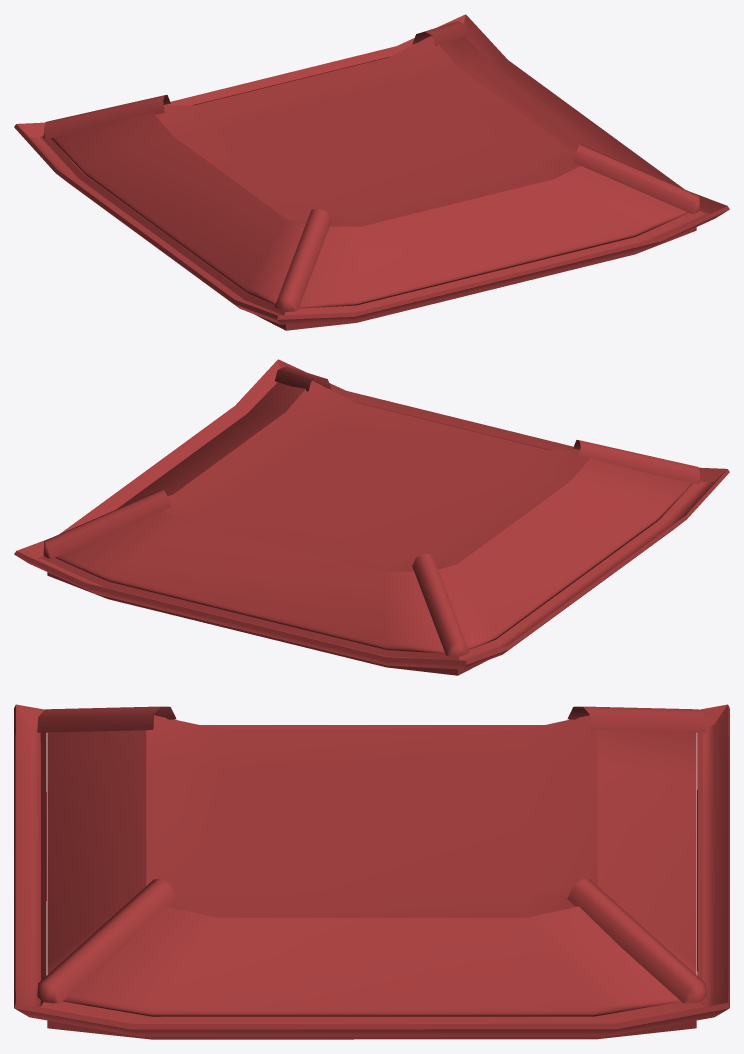
The model's file is Japanesehouse_roof_01.fbx.
3 views of the same model, one above another, from view 1: azimuth 30°, elevation 25°; view 2: azimuth 150°, elevation 25°; view 3: azimuth 270°, elevation 25° (orthographic). The views are drawn at different scales.
Parts seen in each view (by area): view 1: pPipe13; view 2: pPipe13; view 3: pPipe13.
Boxes of the visible parts, <box> form: pPipe13: <box>14,14,729,330</box>; pPipe13: <box>14,359,729,675</box>; pPipe13: <box>14,704,729,1039</box>.
Size of the model in its own units: 574 by 99.62 by 577.
